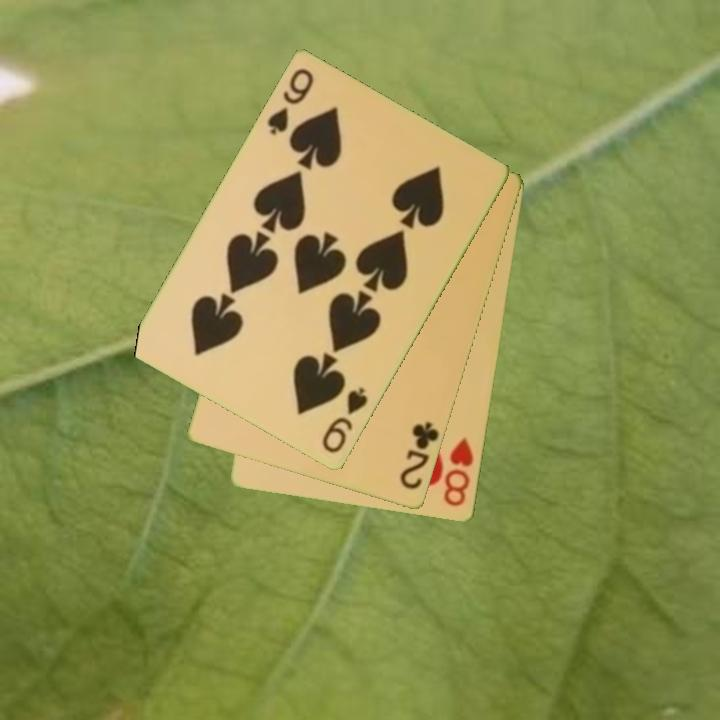2c: (396, 418, 442, 493)
8h: (440, 435, 477, 510)
9s: (263, 65, 317, 139), (318, 384, 371, 457)
